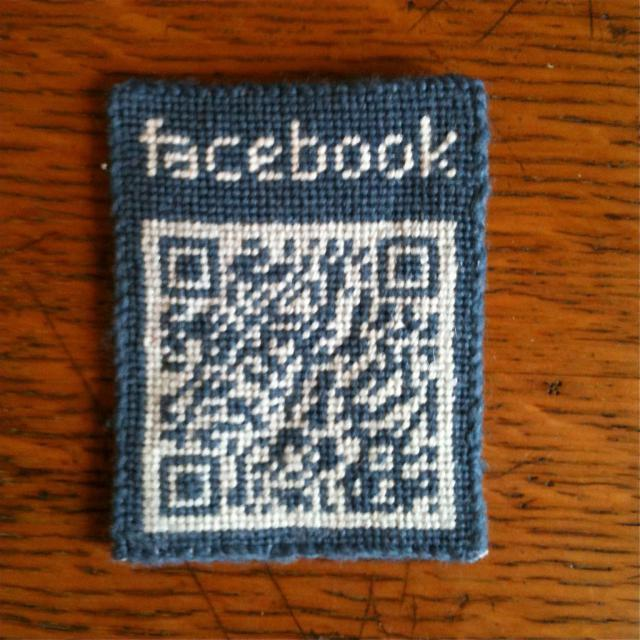qrcode: (160, 237, 441, 517)
